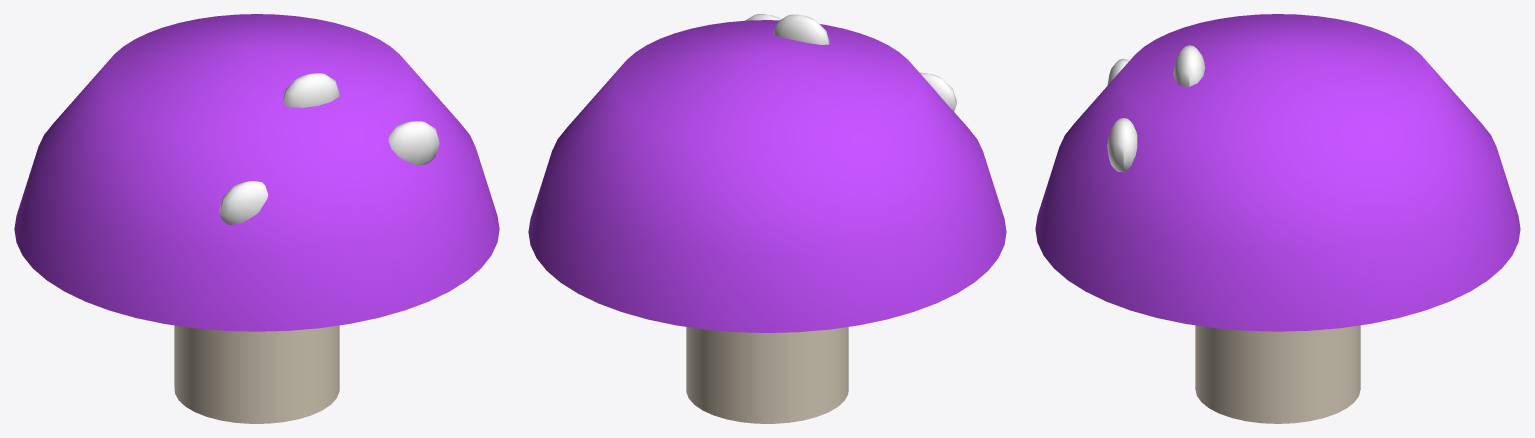
Rendered from houba_cela.glb.
3 renders of one model, left to right at view 1: azimuth 30°, elevation 25°; view 2: azimuth 150°, elevation 25°; view 3: azimuth 270°, elevation 25°, orthographic.
Parts seen in each view (by area): view 1: houba_cela_klobouk, houba_cela_noha, houba_cela; view 2: houba_cela_klobouk, houba_cela_noha, houba_cela; view 3: houba_cela_klobouk, houba_cela_noha, houba_cela.
Boxes of the visible parts, x1,y1,x2,y2 form: houba_cela_klobouk: [14, 14, 499, 331]; houba_cela_noha: [174, 325, 339, 423]; houba_cela: [219, 73, 439, 224]; houba_cela_klobouk: [528, 20, 1006, 332]; houba_cela_noha: [686, 327, 848, 423]; houba_cela: [745, 14, 956, 111]; houba_cela_klobouk: [1035, 14, 1520, 331]; houba_cela_noha: [1195, 325, 1360, 423]; houba_cela: [1107, 45, 1205, 172].
Size of the model in its own units: 0.88 by 0.69 by 0.88.
